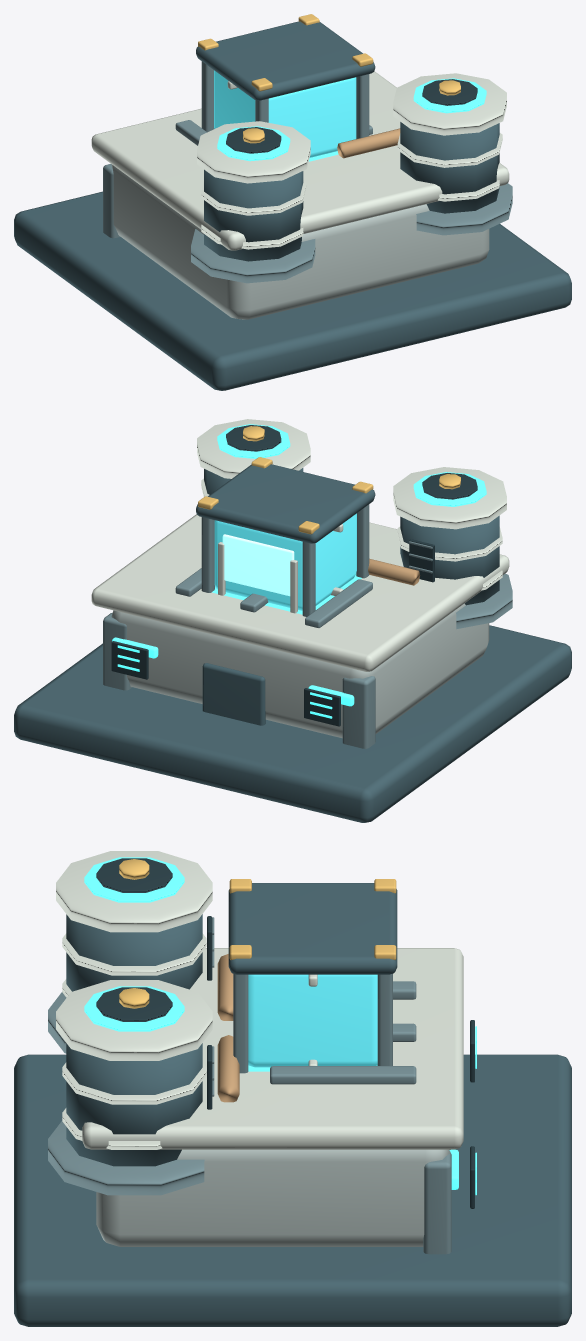
File: power-plant.glb
The picture shows the model from 3 angles, top to bottom: view 1: azimuth 30°, elevation 25°; view 2: azimuth 150°, elevation 25°; view 3: azimuth 270°, elevation 25°; orthographic projection. The views are drawn at different scales.
Parts seen in each view (by area): view 1: Reactor foundation, Hall roof armor, Reactor containment hall, Core armored corner, Glazed reactor core, Stack luminous vent, Stack dark exhaust throat, Core corner beacon, Reactor transfer pipe; view 2: Reactor foundation, Hall roof armor, Reactor containment hall, Core armored corner, Glazed reactor core, Stack dark exhaust throat, Stack luminous vent, Core front optic, Core corner beacon, Reactor transfer pipe; view 3: Reactor foundation, Hall roof armor, Reactor containment hall, Core armored corner, Glazed reactor core, Stack dark exhaust throat, Stack luminous vent, Core corner beacon, Reactor transfer pipe.
Part boxes in pixels (<box>): Reactor foundation: <box>14,21,571,390</box>; Hall roof armor: <box>91,71,509,250</box>; Reactor containment hall: <box>111,164,489,319</box>; Core armored corner: <box>103,61,512,283</box>; Glazed reactor core: <box>214,70,356,157</box>; Stack luminous vent: <box>217,78,486,161</box>; Stack dark exhaust throat: <box>226,79,477,153</box>; Core corner beacon: <box>198,14,460,143</box>; Reactor transfer pipe: <box>337,128,400,158</box>; Reactor foundation: <box>14,464,571,822</box>; Hall roof armor: <box>91,419,509,671</box>; Reactor containment hall: <box>111,603,489,738</box>; Core armored corner: <box>103,504,512,748</box>; Glazed reactor core: <box>214,513,356,610</box>; Stack dark exhaust throat: <box>111,425,477,726</box>; Stack luminous vent: <box>112,424,486,718</box>; Core front optic: <box>222,534,294,596</box>; Core corner beacon: <box>198,426,460,534</box>; Reactor transfer pipe: <box>368,558,420,585</box>; Reactor foundation: <box>14,883,571,1326</box>; Hall roof armor: <box>56,851,463,1149</box>; Reactor containment hall: <box>96,1149,449,1246</box>; Core armored corner: <box>48,917,451,1254</box>; Glazed reactor core: <box>248,974,377,1067</box>; Stack dark exhaust throat: <box>96,858,474,1208</box>; Stack luminous vent: <box>84,857,476,1195</box>; Core corner beacon: <box>119,859,396,1008</box>; Reactor transfer pipe: <box>217,954,239,1102</box>.
Size of the model in its own units: 2.78 by 1.64 by 2.78.
